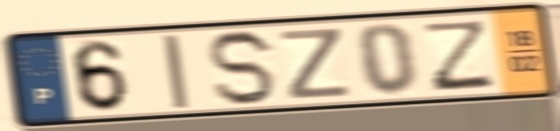0: (354, 21, 423, 98)
6: (68, 37, 130, 115)
I: (158, 31, 193, 112)
S: (205, 27, 281, 108)
Z: (277, 25, 354, 103), (424, 17, 496, 94)
